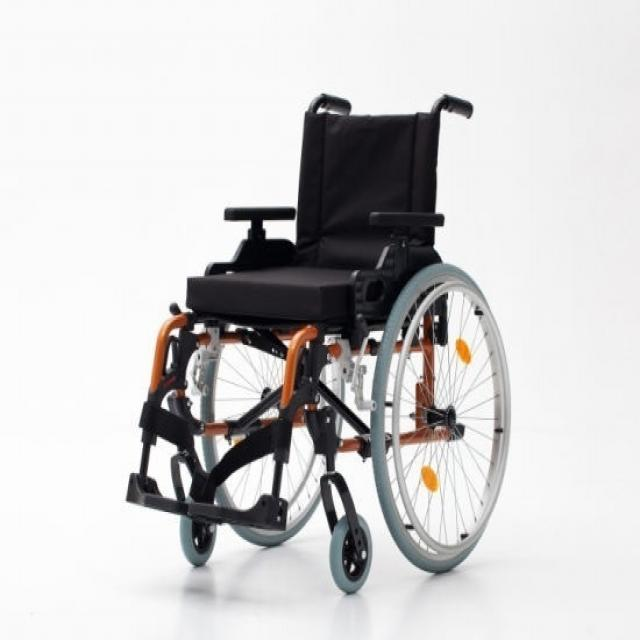wheelchair: (114, 78, 532, 607)
